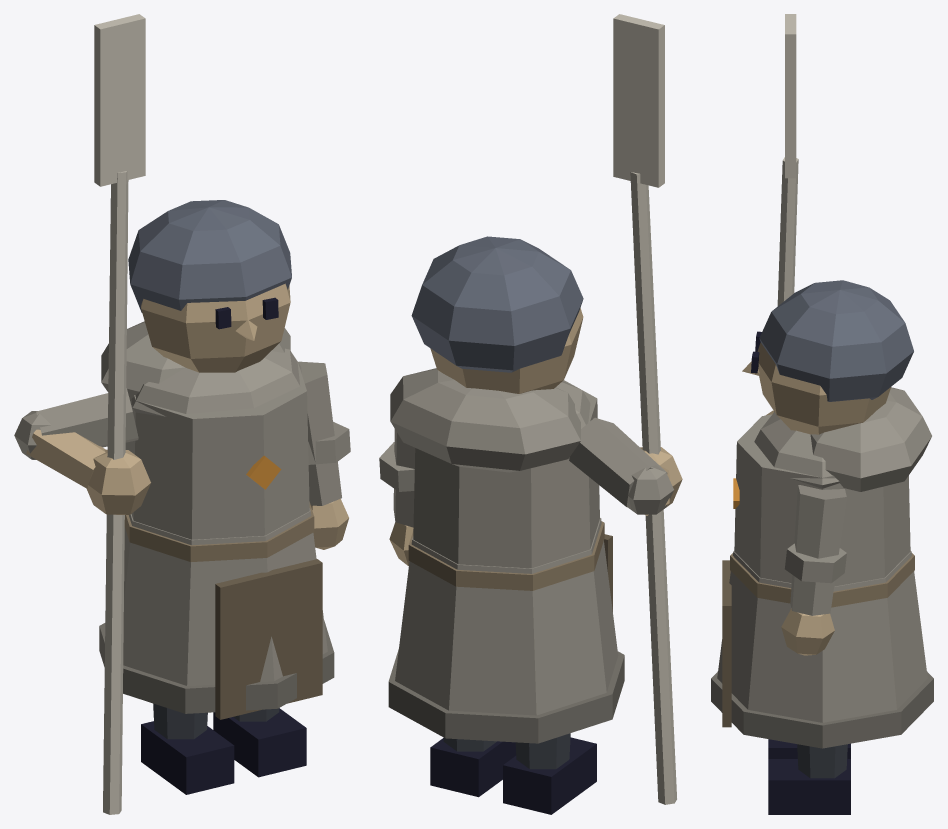
The model's file is hild.glb.
3 views of the same model, side by side, from view 1: azimuth 30°, elevation 25°; view 2: azimuth 150°, elevation 25°; view 3: azimuth 270°, elevation 25° (orthographic). The views are drawn at different scales.
Parts seen in each view (by area): view 1: Torso, Head, Stool, ArmR, LegR, ArmL, LegL; view 2: Torso, Head, Stool, ArmR, LegR, LegL, ArmL; view 3: Torso, Head, ArmL, LegL, Stool, LegR.
Boxes of the visible parts, bbox=[...] form: Torso: bbox=[99, 321, 334, 719]; Head: bbox=[128, 200, 291, 372]; Stool: bbox=[94, 14, 145, 814]; ArmR: bbox=[14, 388, 150, 514]; LegR: bbox=[141, 703, 234, 794]; ArmL: bbox=[298, 361, 350, 549]; LegL: bbox=[213, 708, 306, 777]; Torso: bbox=[388, 368, 624, 743]; Head: bbox=[411, 236, 583, 393]; Stool: bbox=[613, 14, 676, 804]; ArmR: bbox=[569, 417, 682, 515]; LegR: bbox=[503, 733, 596, 814]; LegL: bbox=[430, 738, 516, 797]; ArmL: bbox=[379, 429, 415, 566]; Torso: bbox=[711, 387, 933, 748]; Head: bbox=[742, 280, 913, 434]; ArmL: bbox=[781, 485, 846, 655]; LegL: bbox=[768, 744, 850, 814]; Stool: bbox=[774, 14, 798, 411]; LegR: bbox=[768, 739, 850, 758].
Size of the model in its own units: 0.9984 by 2.47 by 0.7.
